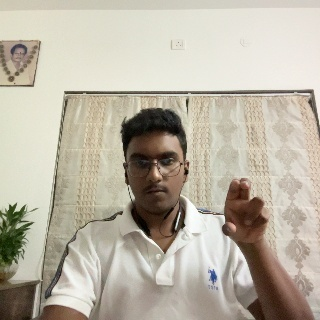Face: (122, 106, 187, 219)
No: (221, 174, 272, 269)
